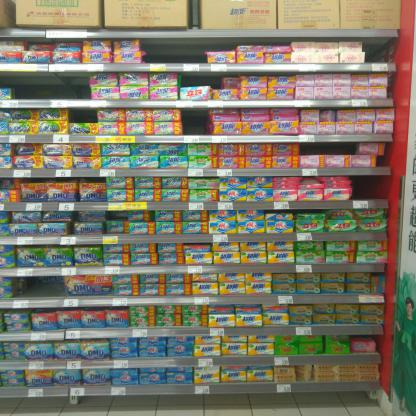Void: (14, 76, 88, 104), (145, 42, 198, 60), (186, 103, 209, 136), (22, 277, 64, 294), (185, 71, 219, 88), (366, 40, 390, 62), (356, 178, 378, 198), (305, 146, 355, 154), (70, 107, 93, 122)
